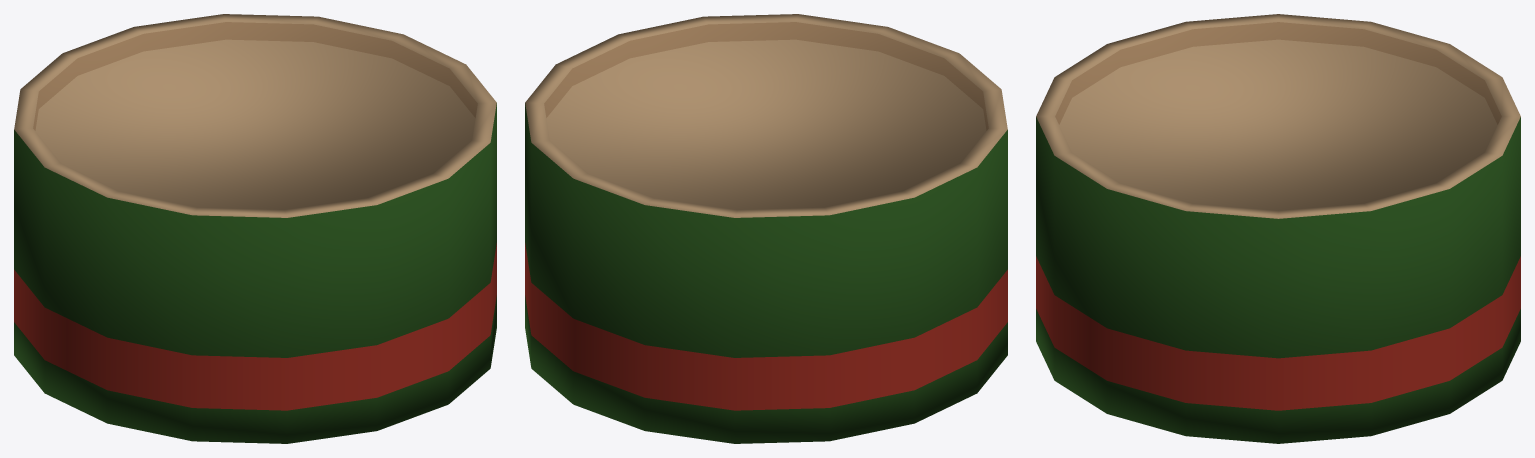
Rendered from PROP_Spam.fbx.
The picture shows the model from 3 angles, left to right: view 1: azimuth 30°, elevation 25°; view 2: azimuth 150°, elevation 25°; view 3: azimuth 270°, elevation 25°; orthographic projection.
Visible parts, largest first — view 1: Spam; view 2: Spam; view 3: Spam.
Part boxes in pixels (box(x1,y1,x2,y2)): Spam: box(14, 14, 496, 443); Spam: box(525, 14, 1007, 443); Spam: box(1036, 14, 1520, 443).
Bounding box in the file's own units: 0.1635 × 0.0837 × 0.1635.
